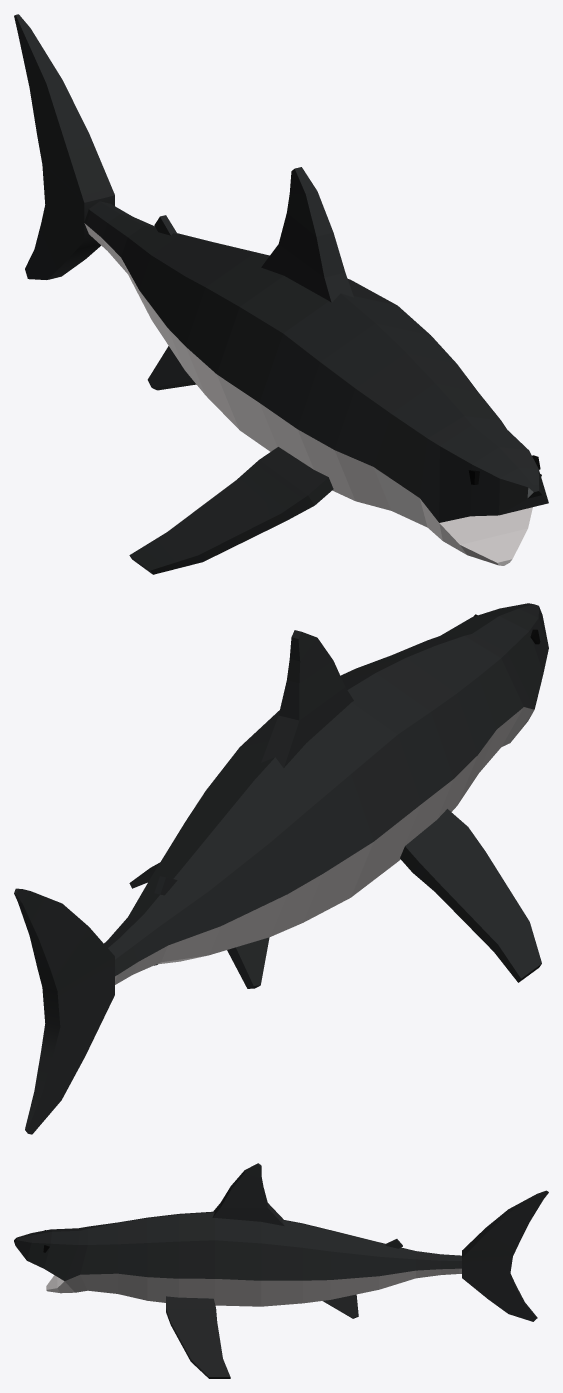
Rendered from NewShark.FBX.
The picture shows the model from 3 angles, top to bottom: view 1: azimuth 30°, elevation 25°; view 2: azimuth 150°, elevation 25°; view 3: azimuth 270°, elevation 25°; orthographic projection. The views are drawn at different scales.
Parts seen in each view (by area): view 1: Geo_Shark; view 2: Geo_Shark; view 3: Geo_Shark.
Part boxes in pixels (left/top/right/bottom): Geo_Shark: left=14, top=14, right=548, bottom=574; Geo_Shark: left=14, top=603, right=548, bottom=1134; Geo_Shark: left=14, top=1163, right=548, bottom=1378.
Bounding box in the file's own units: 76.37 × 60.5 × 176.
4 materials, 1 textured.
